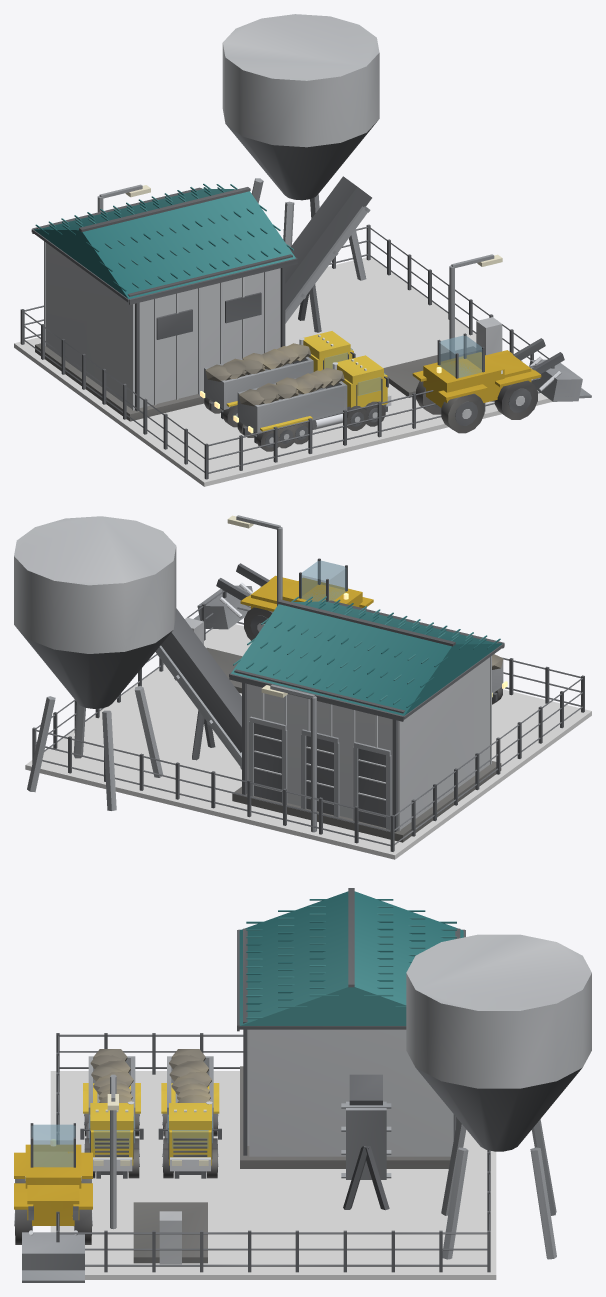
File: Haul_P3.fbx
3 views of the same model, one above another, from view 1: azimuth 30°, elevation 25°; view 2: azimuth 150°, elevation 25°; view 3: azimuth 270°, elevation 25° (orthographic). The views are drawn at different scales.
Parts seen in each view (by area): view 1: Haul.Workshop, Haul.Hopper, Haul.Yard, Haul.Loader, Haul.Parked1, Haul.Fence, Haul.Parked0, Haul.Conv, Haul.Weighbridge, Haul.Lamp0; view 2: Haul.Workshop, Haul.Hopper, Haul.Yard, Haul.Fence, Haul.Conv, Haul.Loader, Haul.Lamp1, Haul.Lamp0, Haul.Weighbridge, Haul.Parked1; view 3: Haul.Workshop, Haul.Yard, Haul.Hopper, Haul.Loader, Haul.Fence, Haul.Parked0, Haul.Parked1, Haul.Conv, Haul.Weighbridge, Haul.Lamp0.
Boxes of the visible parts, left/top/right/bottom form: Haul.Workshop: left=31, top=183, right=297, bottom=421; Haul.Hopper: left=222, top=14, right=379, bottom=280; Haul.Yard: left=14, top=257, right=552, bottom=486; Haul.Loader: left=412, top=333, right=591, bottom=433; Haul.Parked1: left=233, top=355, right=391, bottom=451; Haul.Fence: left=20, top=224, right=554, bottom=479; Haul.Parked0: left=200, top=331, right=355, bottom=427; Haul.Conv: left=285, top=176, right=371, bottom=332; Haul.Weighbridge: left=383, top=317, right=502, bottom=397; Haul.Lamp0: left=449, top=254, right=502, bottom=358; Haul.Workshop: left=229, top=596, right=504, bottom=842; Haul.Hopper: left=14, top=516, right=176, bottom=810; Haul.Yard: left=25, top=624, right=591, bottom=859; Haul.Fence: left=32, top=590, right=584, bottom=851; Haul.Conv: left=155, top=608, right=241, bottom=769; Haul.Loader: left=194, top=558, right=373, bottom=640; Haul.Lamp1: left=261, top=684, right=316, bottom=832; Haul.Lamp0: left=227, top=515, right=282, bottom=605; Haul.Weighbridge: left=185, top=617, right=242, bottom=693; Haul.Parked1: left=492, top=654, right=507, bottom=704; Haul.Workshop: left=237, top=888, right=465, bottom=1168; Haul.Yard: left=50, top=1071, right=496, bottom=1279; Haul.Hopper: left=406, top=934, right=591, bottom=1259; Haul.Loader: left=14, top=1123, right=92, bottom=1282; Haul.Fence: left=56, top=1033, right=490, bottom=1272; Haul.Parked0: left=158, top=1049, right=221, bottom=1178; Haul.Parked1: left=80, top=1049, right=143, bottom=1178; Haul.Conv: left=341, top=1074, right=391, bottom=1210; Haul.Weighbridge: left=133, top=1202, right=207, bottom=1264; Haul.Lamp0: left=107, top=1074, right=118, bottom=1229.
Size of the model in its own units: 2734 by 1598 by 3113.
